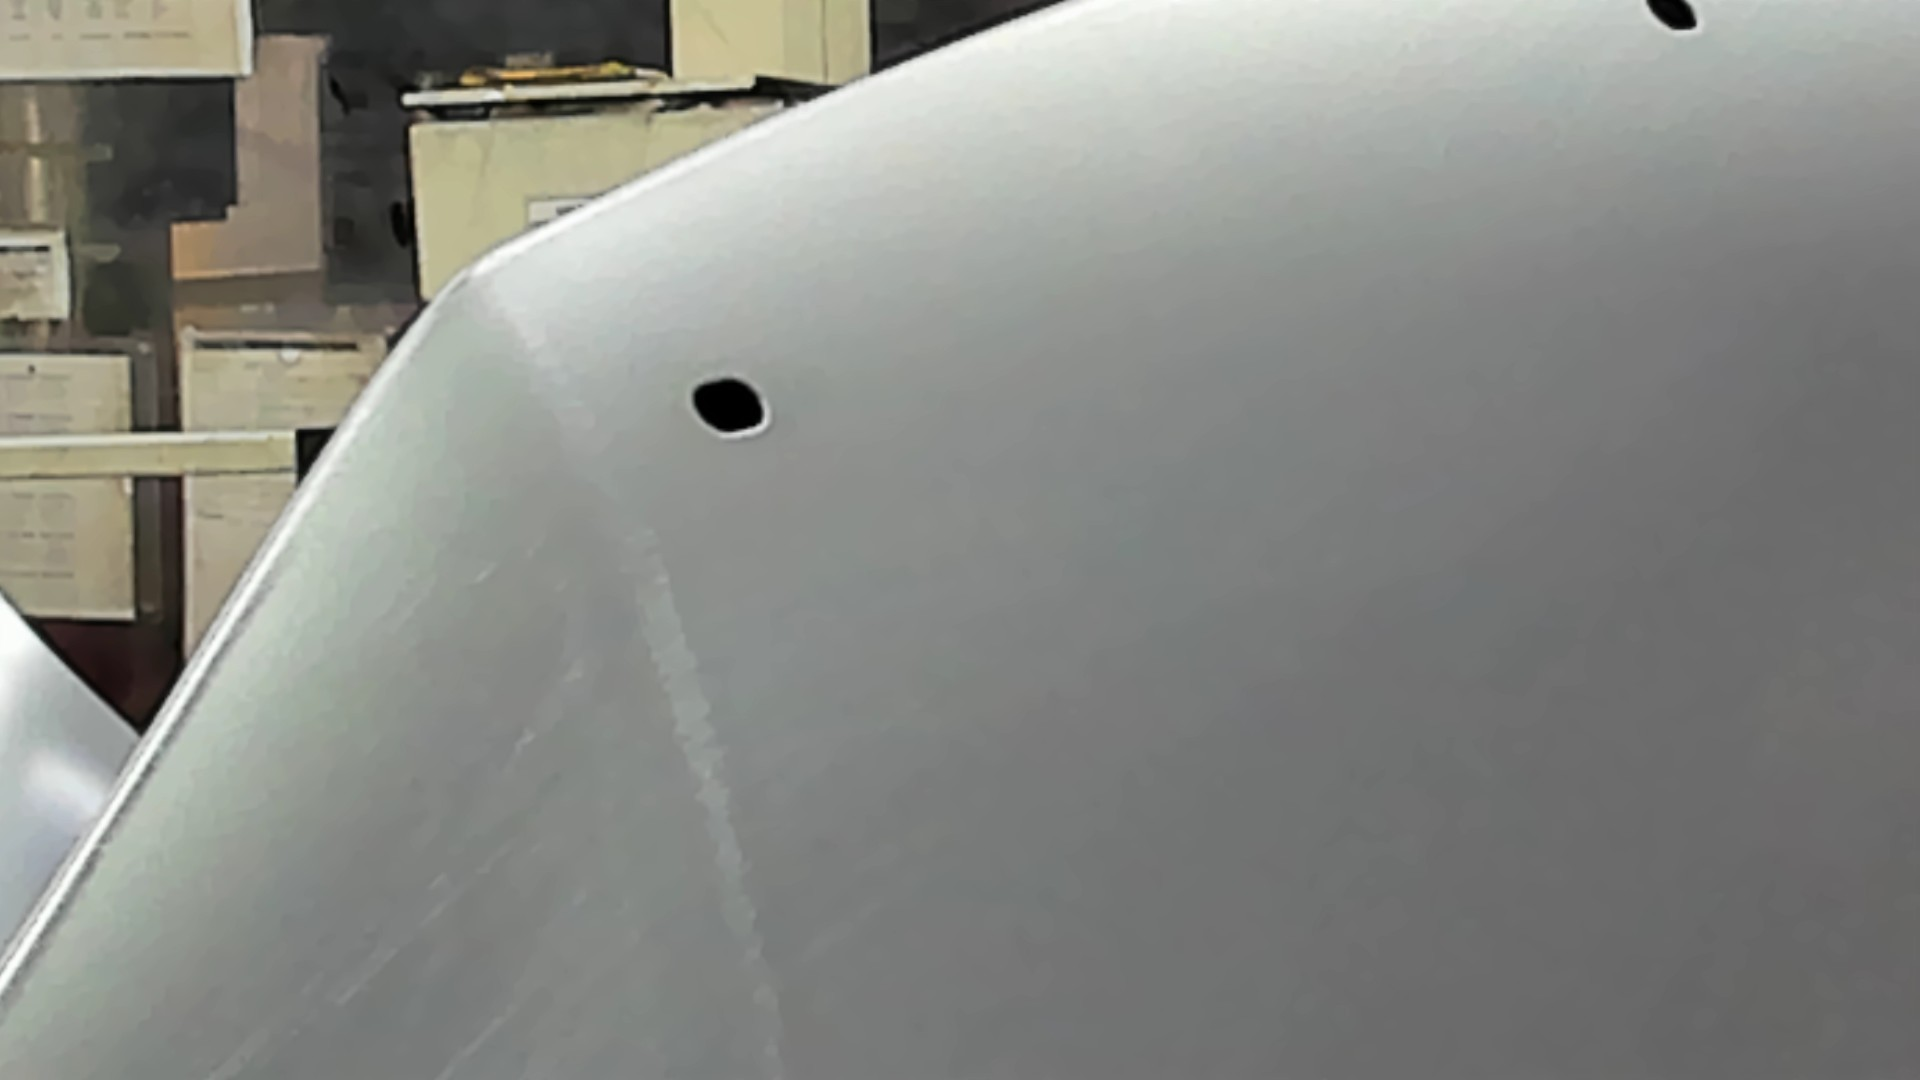amorfo: (686, 371, 773, 440), (1642, 1, 1704, 38)
capo: (833, 109, 1920, 1080)
